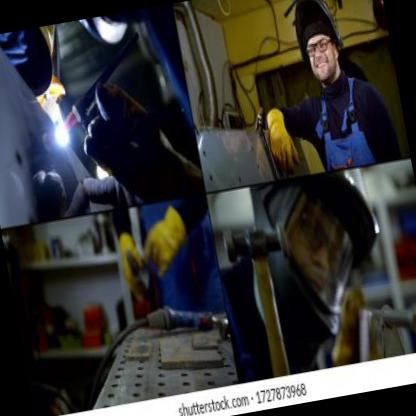Gloves: (72, 68, 206, 214), (135, 202, 194, 279), (261, 104, 303, 178), (116, 231, 149, 304)
